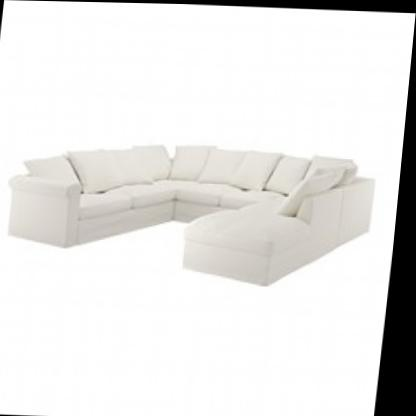Sofa: (0, 113, 387, 295)
